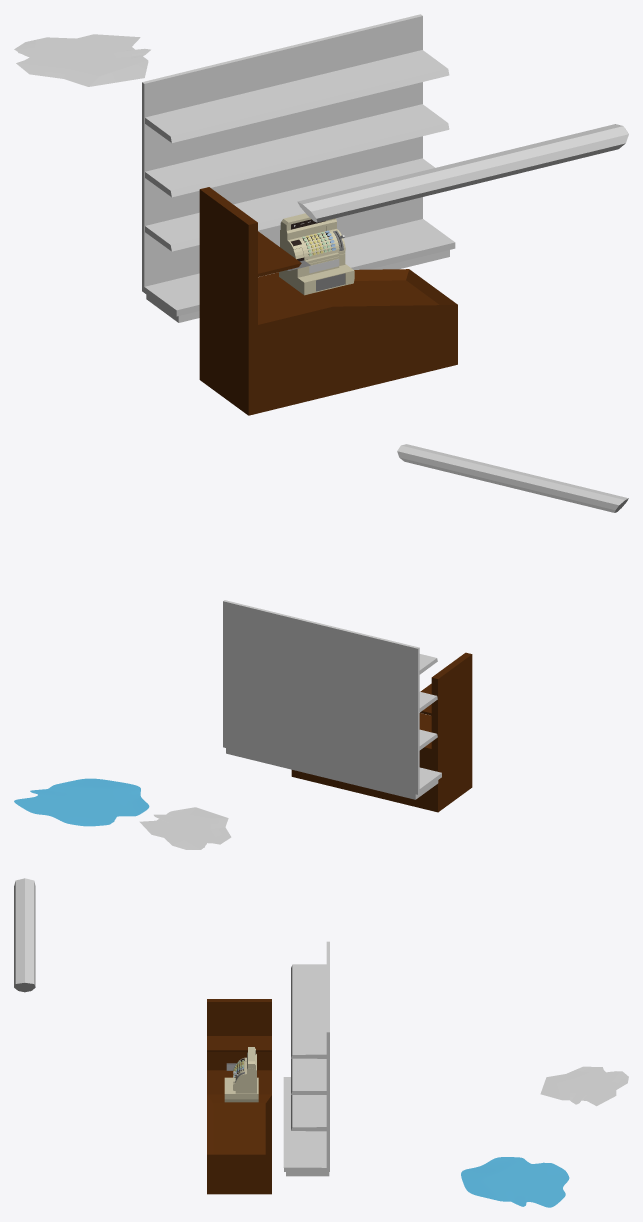
File: puddle.fbx
3 views of the same model, one above another, from view 1: azimuth 30°, elevation 25°; view 2: azimuth 150°, elevation 25°; view 3: azimuth 270°, elevation 25° (orthographic). The views are drawn at different scales.
Visible parts, largest first — view 1: bottom, Kostka.001, Kostka, Cylinder.001_Cylinder.004; view 2: bottom, Kostka.001, bottom.004, Kostka; view 3: bottom, Kostka.001, bottom.004, Kostka, Cylinder.001_Cylinder.004.
Boxes of the visible parts, x1,y1,x2,y2 form: bottom: (14,14,455,322); Kostka.001: (199,187,457,415); Kostka: (297,124,628,222); Cylinder.001_Cylinder.004: (279,213,354,295); bottom: (139,600,441,849); Kostka.001: (291,652,472,812); bottom.004: (14,778,149,826); Kostka: (397,444,628,512); bottom: (283,941,628,1176); Kostka.001: (207,999,271,1194); bottom.004: (461,1157,569,1207); Kostka: (14,878,35,992); Cylinder.001_Cylinder.004: (224,1047,258,1102).
Bounding box in the file's own units: 4637 × 3055 × 7701.
